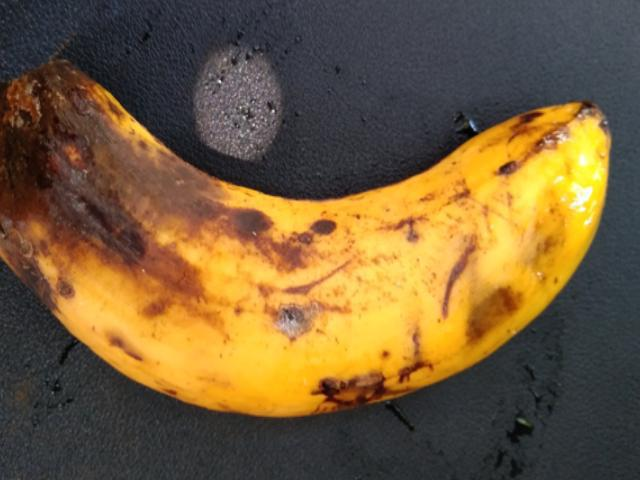rotten: (7, 43, 634, 433)
